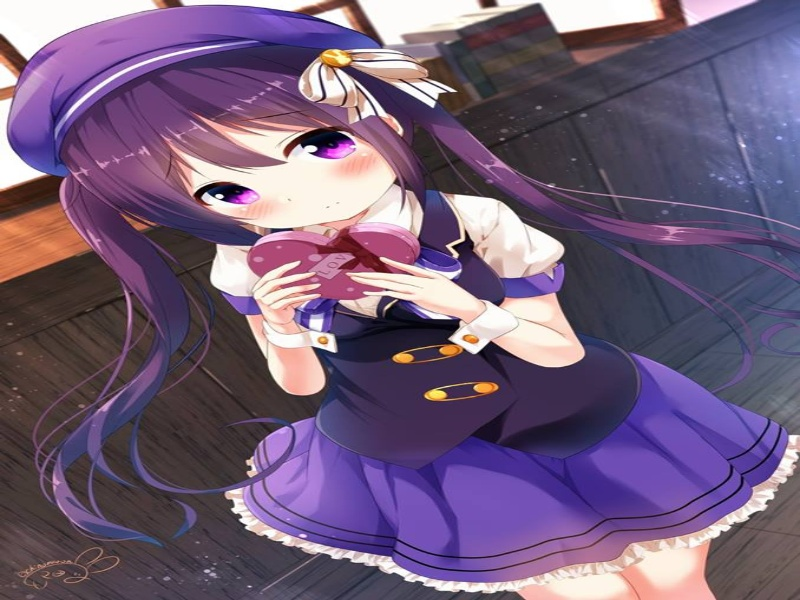dress: (236, 381, 795, 565)
heart: (245, 220, 428, 316)
person: (54, 66, 435, 246)
